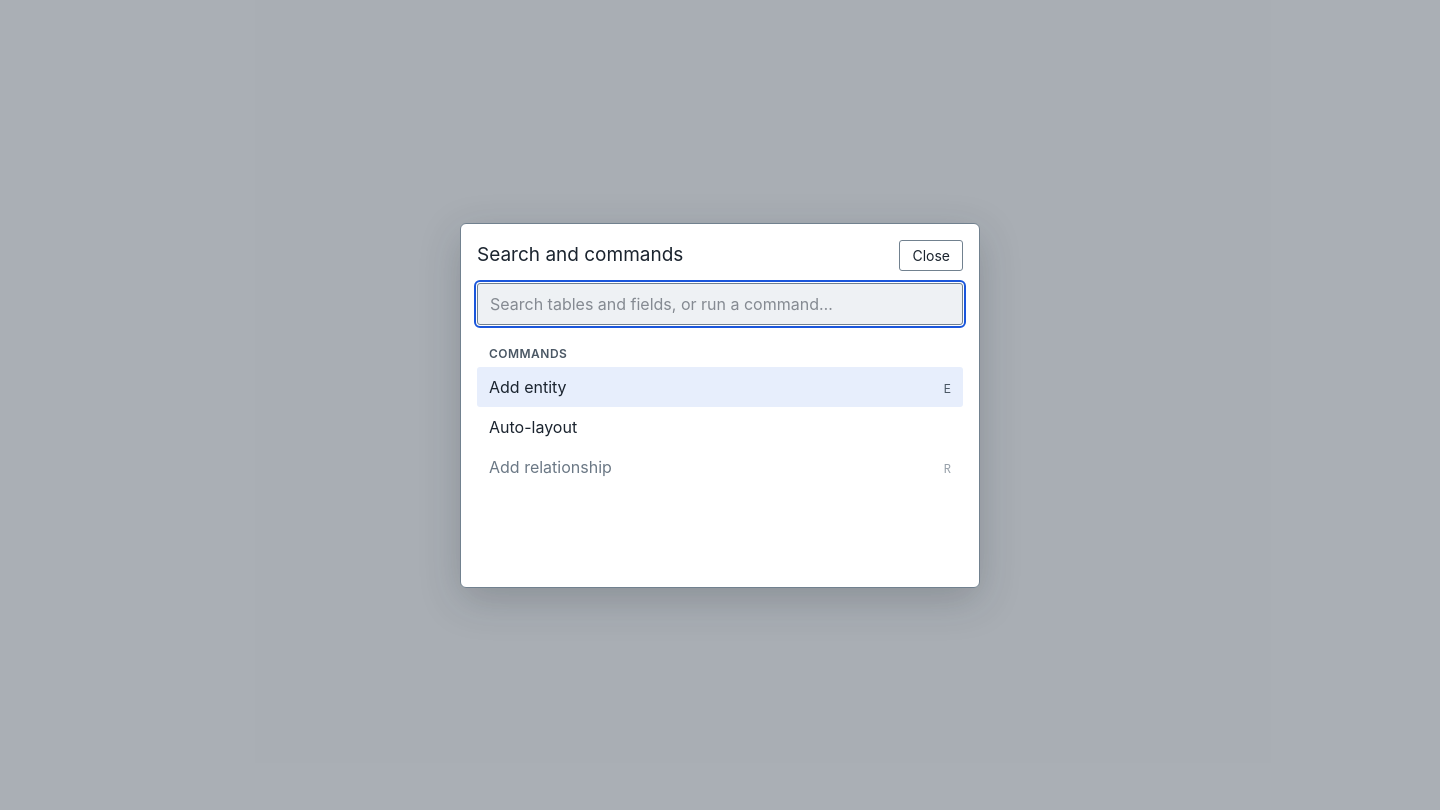
Scenario: CommandPalette › finds a table by an acronym, which is what makes it fuzzy
The image size is (1440, 810).
Type "ol" into the dropdown at (720, 304), box [477,282,963,324]
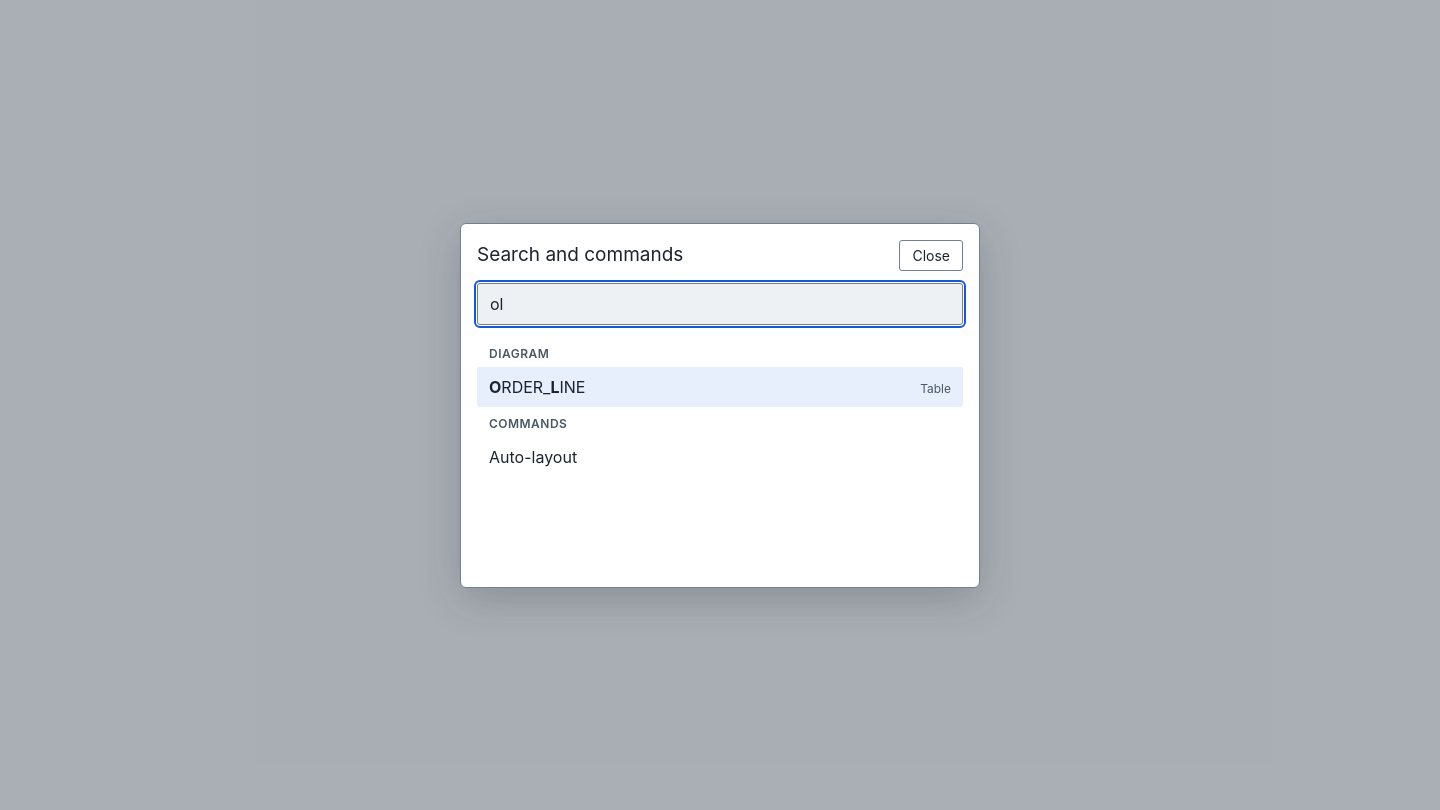
expect the option "ORDER_LINE Table" is shown: met, box [477,366,963,406]
